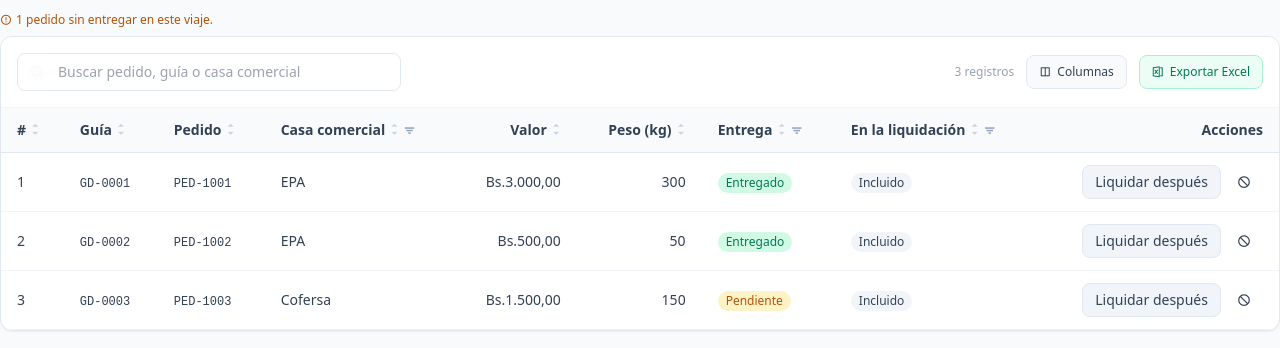
Test: TripOrdersPanel › deja un pedido para liquidar después y luego lo vuelve a incluir
Expected: the text "PED-1003" is shown, top-left (174, 295), bottom-right (231, 309)
Click the button "Liquidar después" in the row of "GD-0003".
click(1152, 300)  # box top-left (1082, 283), bottom-right (1221, 317)
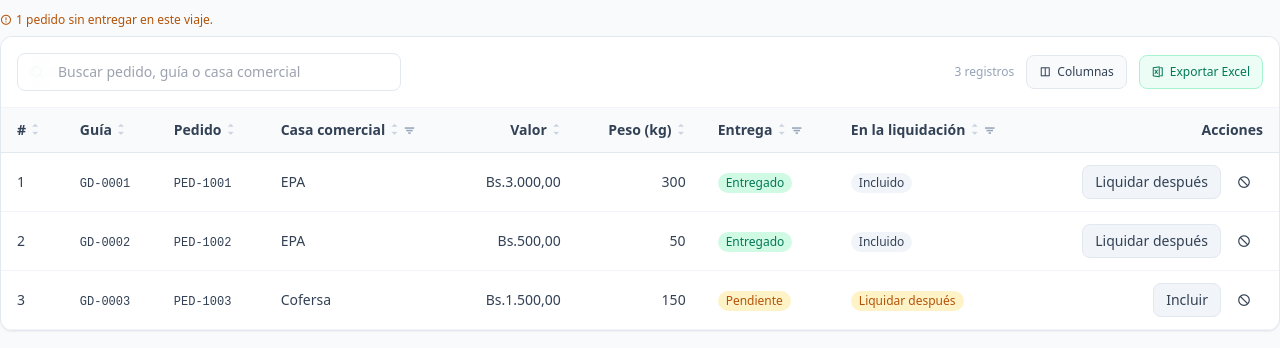
Result: the text "Liquidar después" is shown at top-left (851, 290), bottom-right (964, 310)
Result: the button "Incluir" is shown
Click the button "Incluir".
click(1187, 300)  # box top-left (1153, 283), bottom-right (1221, 317)
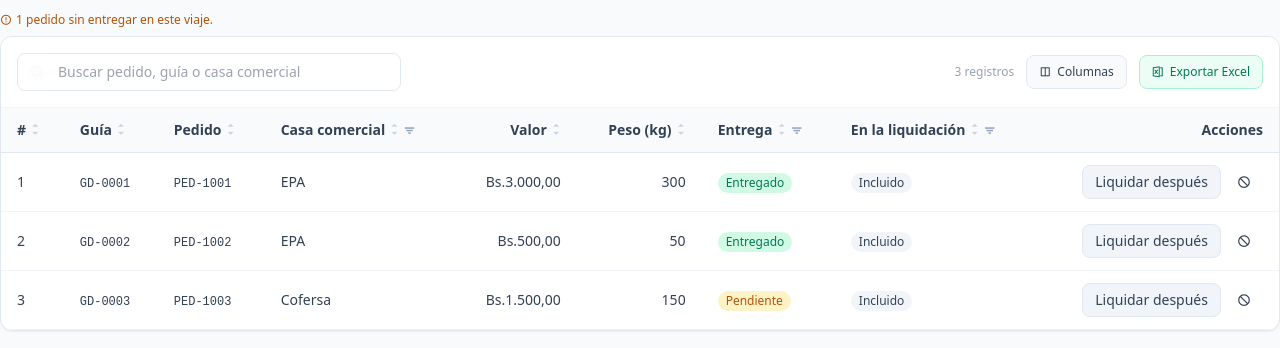
Result: the button "Incluir" is gone
